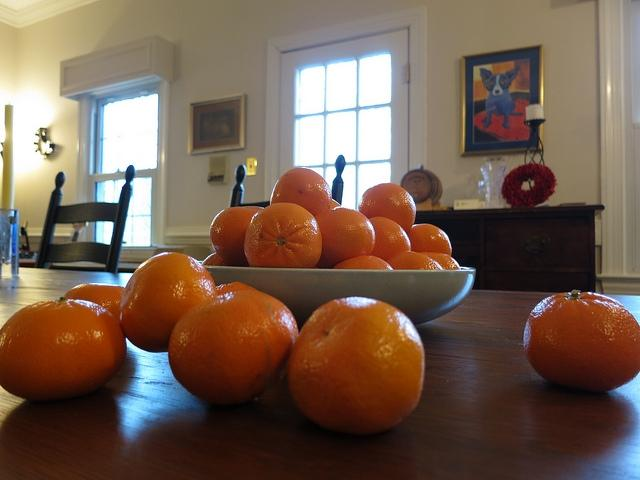orange: (288, 297, 424, 436), (170, 292, 298, 404), (1, 297, 126, 400), (523, 289, 640, 394), (119, 252, 218, 353), (244, 203, 322, 269), (314, 207, 376, 269), (210, 206, 264, 267), (270, 168, 332, 218), (358, 183, 416, 234), (64, 283, 125, 322), (368, 216, 412, 262), (406, 224, 452, 256), (386, 252, 444, 270), (332, 256, 393, 270), (418, 252, 461, 269), (216, 282, 259, 296), (202, 253, 239, 266), (330, 198, 342, 208)
